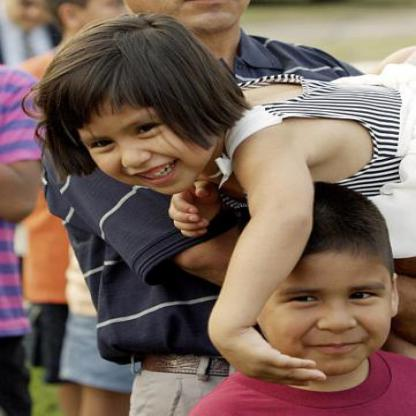face: (253, 200, 398, 379), (71, 41, 210, 202)
